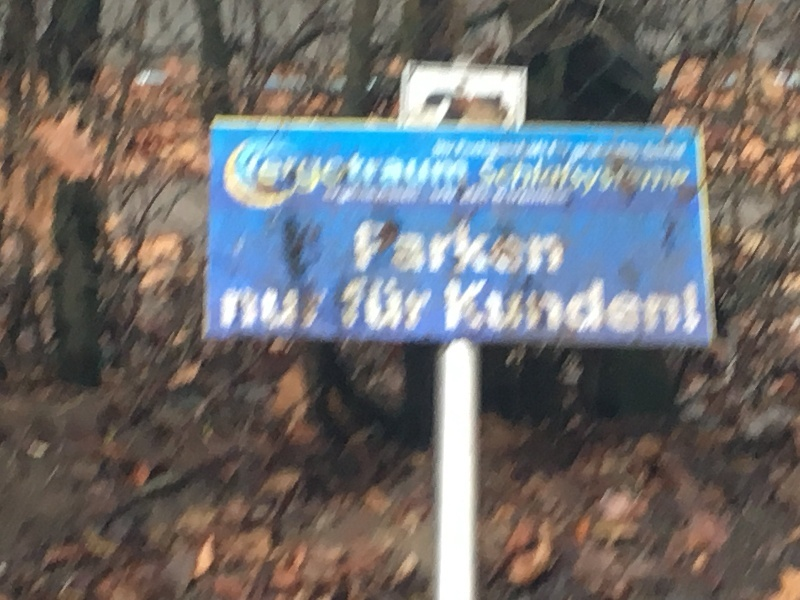text: (241, 141, 256, 218), (257, 141, 272, 218), (273, 141, 288, 218), (289, 141, 304, 218), (305, 141, 320, 218), (321, 141, 336, 218), (337, 141, 352, 218), (353, 141, 368, 218), (369, 141, 384, 218), (385, 141, 400, 218), (401, 141, 416, 218), (417, 141, 432, 218), (433, 141, 448, 218), (449, 141, 464, 218), (465, 141, 480, 218), (481, 141, 496, 218), (497, 141, 512, 218), (513, 141, 528, 218), (529, 141, 544, 218), (545, 141, 560, 218), (561, 141, 576, 218), (577, 141, 592, 218), (593, 141, 608, 218), (609, 141, 624, 218), (625, 141, 640, 218), (641, 141, 656, 218), (657, 141, 672, 218), (673, 141, 688, 218), (449, 277, 464, 338), (465, 277, 480, 338), (481, 277, 496, 338), (497, 277, 512, 338), (513, 277, 528, 338), (529, 277, 544, 338), (545, 277, 560, 338), (561, 277, 576, 338), (577, 277, 592, 338), (593, 277, 608, 338), (609, 277, 624, 338), (625, 277, 640, 338), (641, 277, 656, 338), (657, 277, 672, 338), (673, 277, 688, 338), (353, 275, 368, 333), (369, 275, 384, 333), (385, 275, 400, 333), (401, 275, 416, 333), (417, 275, 432, 333), (689, 277, 703, 338), (369, 222, 384, 275), (385, 222, 400, 275), (401, 222, 416, 275), (417, 222, 432, 275), (433, 222, 448, 275), (449, 222, 464, 275), (465, 222, 480, 275), (481, 222, 496, 275), (497, 222, 512, 275), (513, 222, 528, 275), (529, 222, 544, 275), (545, 222, 560, 275), (230, 141, 240, 218), (225, 287, 240, 331), (241, 287, 256, 331), (257, 287, 272, 331), (273, 287, 288, 331), (289, 287, 304, 331), (305, 287, 320, 331), (342, 275, 352, 333), (358, 222, 368, 275), (321, 287, 329, 331), (561, 222, 567, 275), (445, 277, 448, 338), (689, 141, 691, 218), (222, 287, 224, 331), (433, 275, 434, 333)
